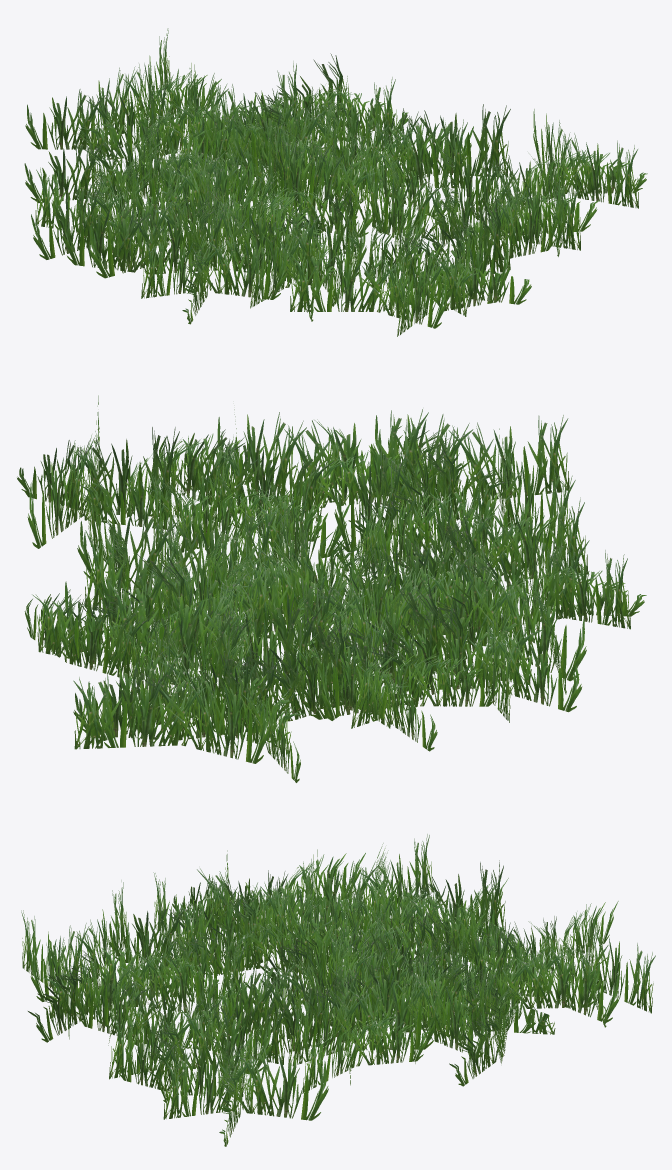
Rendered from grass.fbx.
3 renders of one model, top to bottom at view 1: azimuth 30°, elevation 25°; view 2: azimuth 150°, elevation 25°; view 3: azimuth 270°, elevation 25°, orthographic. The views are drawn at different scales.
Parts seen in each view (by area): view 1: _mesh; view 2: _mesh; view 3: _mesh.
Part boxes in pixels (box(x1,y1,x2,y2)): _mesh: box(24, 28, 647, 336); _mesh: box(17, 395, 646, 782); _mesh: box(21, 834, 655, 1146).
Size of the model in its own units: 478 by 89.95 by 483.
